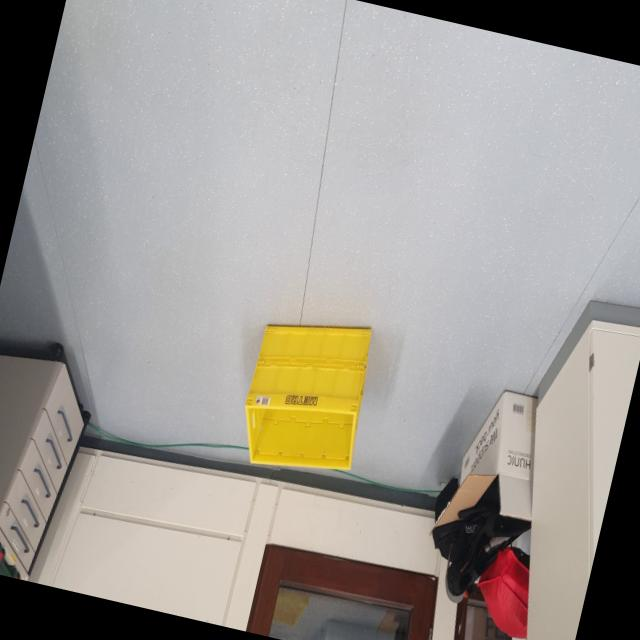box: (226, 301, 392, 494)
